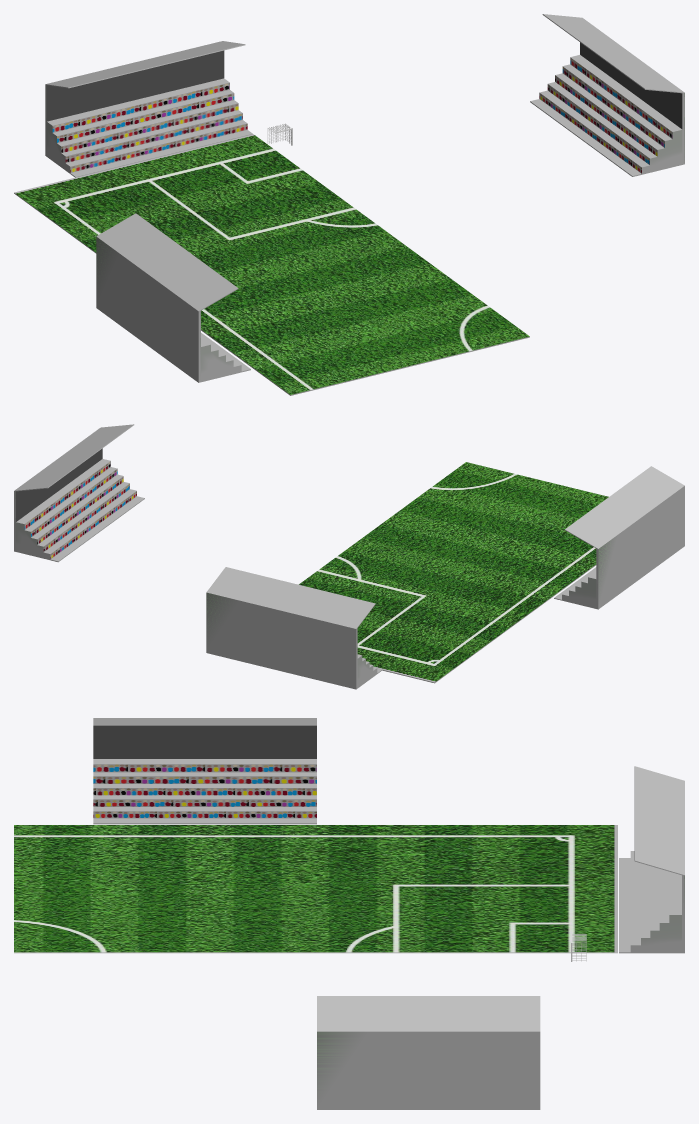
Rendered from pitch.glb.
The picture shows the model from 3 angles, top to bottom: view 1: azimuth 30°, elevation 25°; view 2: azimuth 150°, elevation 25°; view 3: azimuth 270°, elevation 25°; orthographic projection. The views are drawn at different scales.
Visible parts, largest first — view 1: Cube, Cube.001, Cube.002, Cube.003; view 2: Cube, Cube.001, Cube.002, Cube.003; view 3: Cube, Cube.003, Cube.002, Cube.001.
Boxes of the visible parts, box(x1,y1,x2,y2) form: Cube: box(14, 134, 529, 395); Cube.001: box(45, 41, 252, 177); Cube.002: box(96, 213, 250, 382); Cube.003: box(530, 14, 684, 176); Cube: box(299, 462, 608, 683); Cube.001: box(206, 567, 381, 689); Cube.002: box(554, 466, 684, 609); Cube.003: box(14, 424, 144, 562); Cube: box(14, 825, 617, 953); Cube.003: box(317, 996, 540, 1109); Cube.002: box(93, 718, 316, 824); Cube.001: box(619, 766, 684, 953).
Bounding box in the file's own units: 149 × 20.53 × 134.
Materials: 2 (1 with a texture image).
